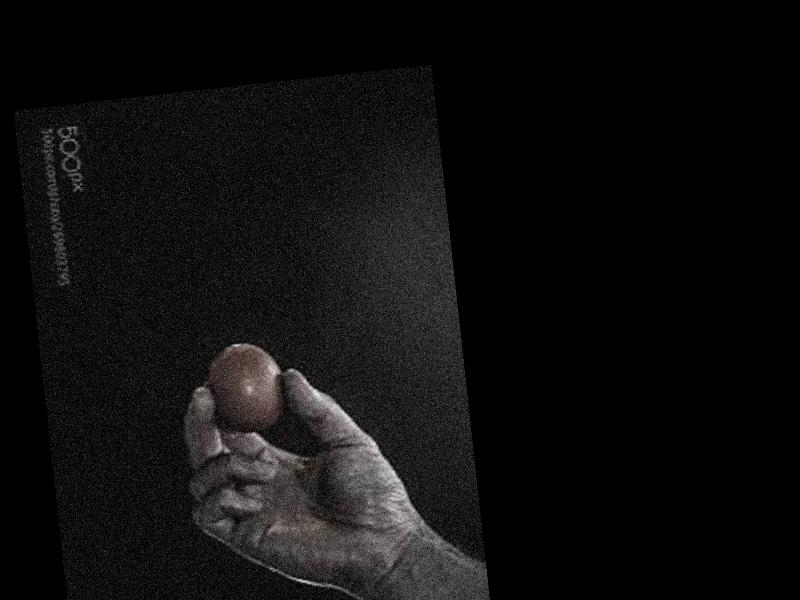Eggs: (205, 339, 290, 439)
